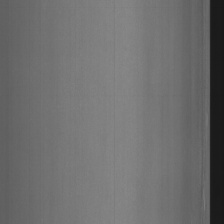silk_spot: (192, 108, 208, 213)
